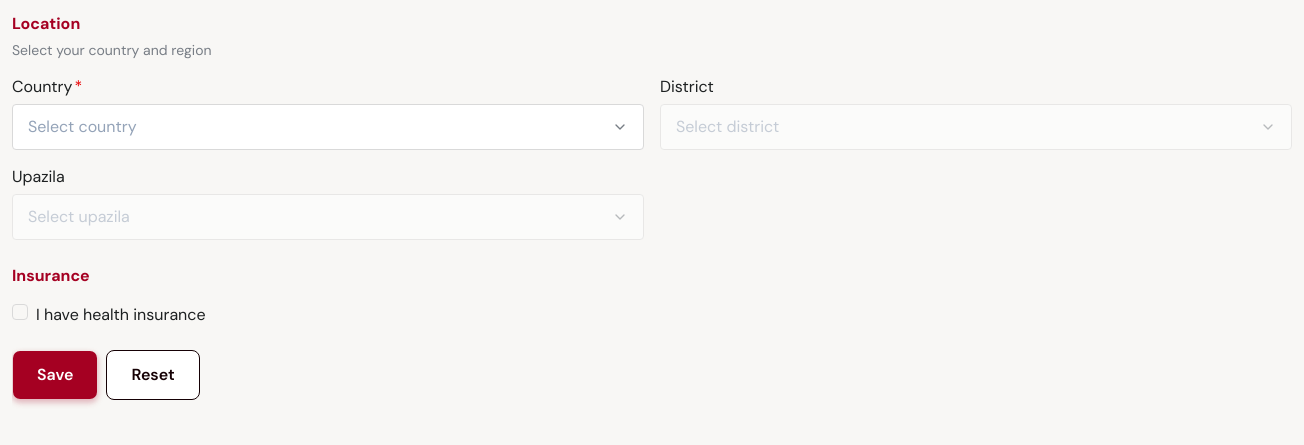
Test: ConditionalForm › shows validation error when submitted without country
Click the button "Save" at (55, 375), box [12,350,98,400]
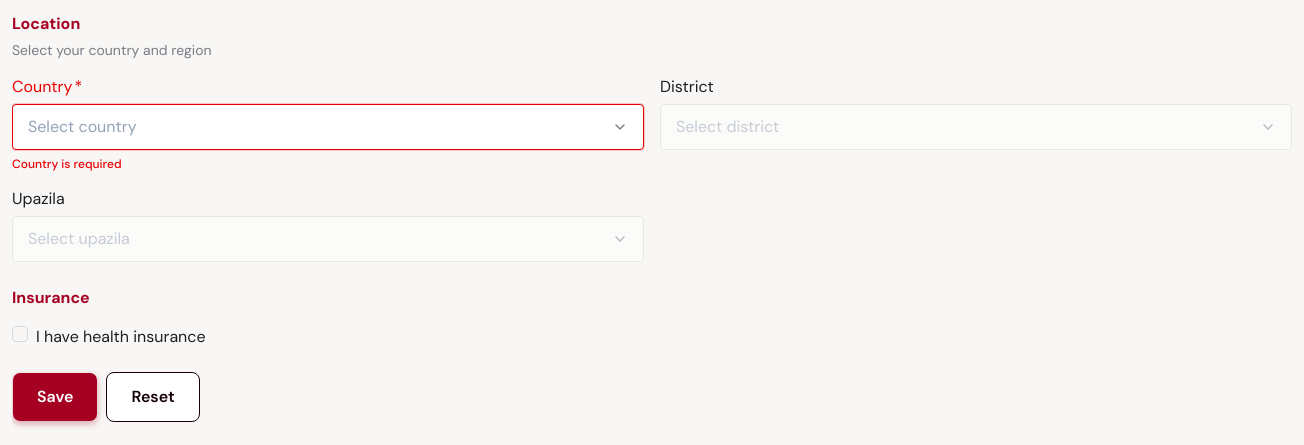
Now the text "Country is required" is shown, box [12,156,122,172]
